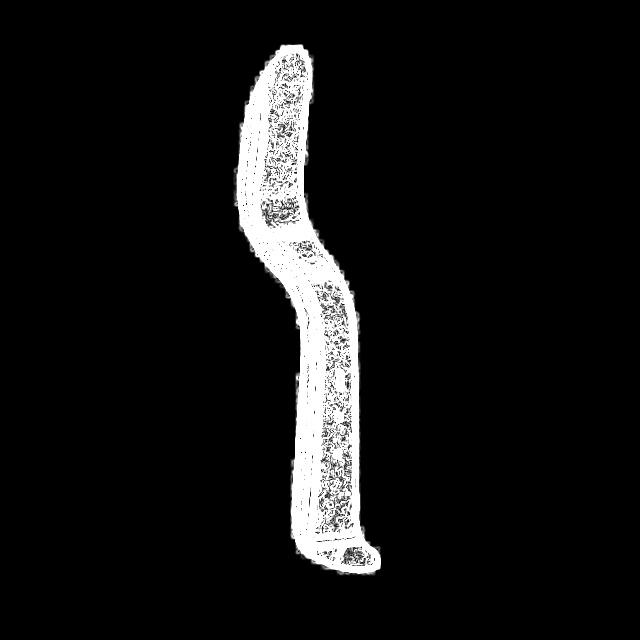separador: (234, 44, 383, 582)
